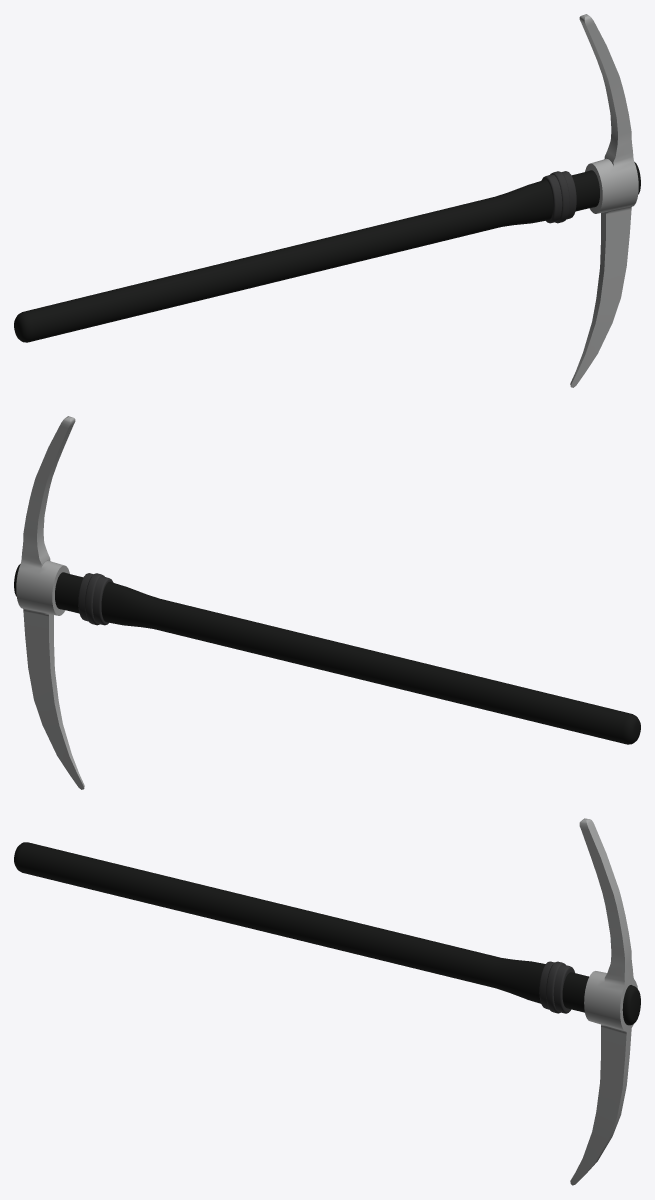
The model's file is Pickaxe_Mesh.fbx.
3 renders of one model, top to bottom at view 1: azimuth 30°, elevation 25°; view 2: azimuth 150°, elevation 25°; view 3: azimuth 330°, elevation 25°, orthographic.
Visible parts, largest first — view 1: Pickaxe; view 2: Pickaxe; view 3: Pickaxe.
Part boxes in pixels (box(x1,y1,x2,y2)): Pickaxe: box(14, 14, 640, 387); Pickaxe: box(14, 416, 640, 789); Pickaxe: box(14, 818, 640, 1185).
Bounding box in the file's own units: 0.6723 × 0.3838 × 0.0352.
